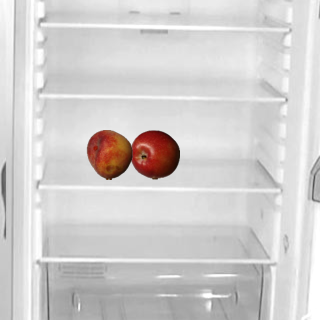Apple Braeburn: (129, 129, 179, 179)
Peach: (84, 129, 134, 179)
